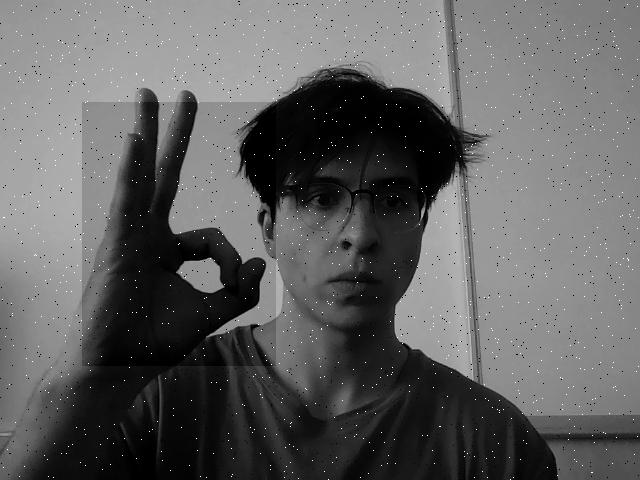OK: (82, 102, 276, 366)
